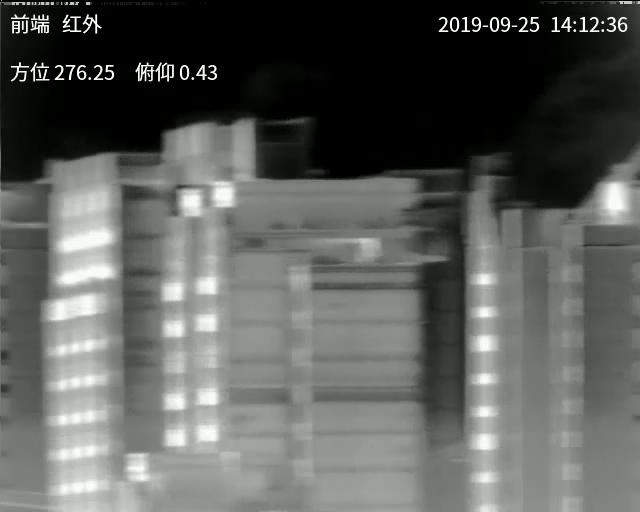uav: (323, 298, 348, 318)
